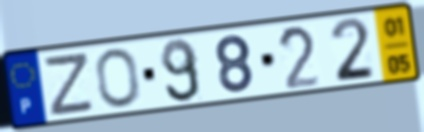2: (328, 16, 376, 83), (276, 23, 322, 92)
8: (213, 33, 257, 96)
9: (159, 35, 205, 105)
O: (93, 46, 143, 110)
Z: (43, 49, 96, 119)
